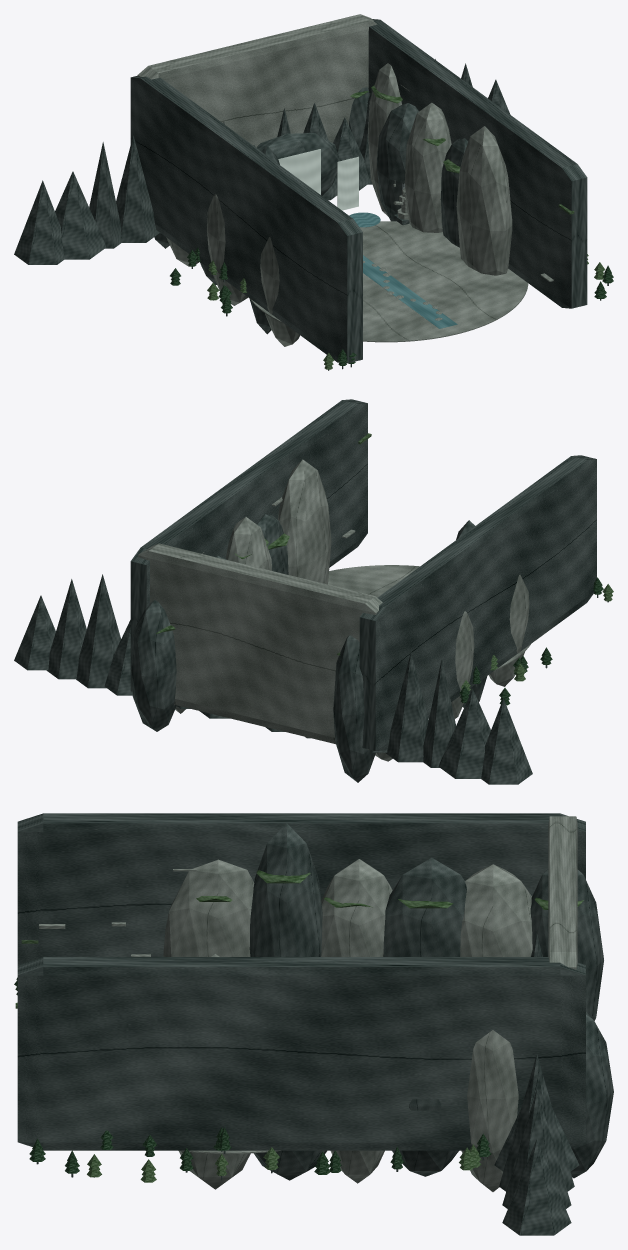
The model's file is final_valley.glb.
The picture shows the model from 3 angles, top to bottom: view 1: azimuth 30°, elevation 25°; view 2: azimuth 150°, elevation 25°; view 3: azimuth 270°, elevation 25°; orthographic projection. The views are drawn at different scales.
Parts seen in each view (by area): view 1: West canyon wall, East canyon wall, Rear canyon wall, Continuous valley floor · flush to game plane, Tall enclosing canyon wall.011, Tall enclosing canyon wall.009, Tall enclosing canyon wall.008, Distant ridgeline.003, Distant ridgeline.001, Distant ridgeline, Tall enclosing canyon wall.007, Distant ridgeline.002 (+10 smaller); view 2: West canyon wall, Rear canyon wall, East canyon wall, Tall enclosing canyon wall.011, Tall enclosing canyon wall.006, Tall enclosing canyon wall, Distant ridgeline.013, Distant ridgeline.003, Distant ridgeline.001, Distant ridgeline, Distant ridgeline.014, Continuous valley floor · flush to game plane (+7 smaller); view 3: East canyon wall, West canyon wall, Tall enclosing canyon wall.004, Tall enclosing canyon wall.005, Tall enclosing canyon wall.002, Tall enclosing canyon wall.001, Tall enclosing canyon wall.007, Tall enclosing canyon wall.003, Rear canyon wall, Tall enclosing canyon wall, Distant ridgeline.015, Tall enclosing canyon wall.006 (+7 smaller).
Part boxes in pixels (box(x1,y1,x2,y2)): West canyon wall: box(130, 75, 362, 363); East canyon wall: box(368, 19, 587, 308); Rear canyon wall: box(137, 14, 377, 147); Continuous valley floor · flush to game plane: box(249, 221, 528, 342); Tall enclosing canyon wall.011: box(456, 126, 512, 275); Tall enclosing canyon wall.009: box(404, 102, 451, 232); Tall enclosing canyon wall.008: box(377, 103, 418, 221); Distant ridgeline.003: box(116, 135, 158, 242); Distant ridgeline.001: box(55, 171, 106, 259); Distant ridgeline: box(14, 180, 64, 264); Tall enclosing canyon wall.007: box(368, 63, 401, 216); Distant ridgeline.002: box(89, 142, 121, 248); West canyon wall: box(359, 455, 596, 750); Rear canyon wall: box(138, 543, 382, 749); East canyon wall: box(130, 399, 367, 691); Tall enclosing canyon wall.011: box(278, 459, 331, 584); Tall enclosing canyon wall.006: box(131, 600, 176, 731); Tall enclosing canyon wall: box(333, 635, 375, 782); Distant ridgeline.013: box(76, 574, 120, 688); Distant ridgeline.003: box(385, 652, 428, 762); Distant ridgeline.001: box(438, 689, 490, 778); Distant ridgeline: box(481, 698, 532, 784); Distant ridgeline.014: box(46, 579, 86, 679); Continuous valley floor · flush to game plane: box(328, 565, 530, 669); East canyon wall: box(17, 957, 585, 1150); West canyon wall: box(17, 813, 585, 964); Tall enclosing canyon wall.004: box(249, 823, 322, 956); Tall enclosing canyon wall.005: box(163, 859, 254, 956); Tall enclosing canyon wall.002: box(383, 857, 466, 956); Tall enclosing canyon wall.001: box(460, 864, 532, 956); Tall enclosing canyon wall.007: box(461, 1030, 518, 1191); Tall enclosing canyon wall.003: box(321, 859, 392, 956); Rear canyon wall: box(548, 816, 577, 969); Tall enclosing canyon wall: box(530, 869, 603, 1020); Distant ridgeline.015: box(502, 1139, 571, 1235); Tall enclosing canyon wall.006: box(570, 1012, 613, 1178).
Size of the model in its own units: 229 by 84.11 by 184.
Materials: 13 (11 with a texture image).
